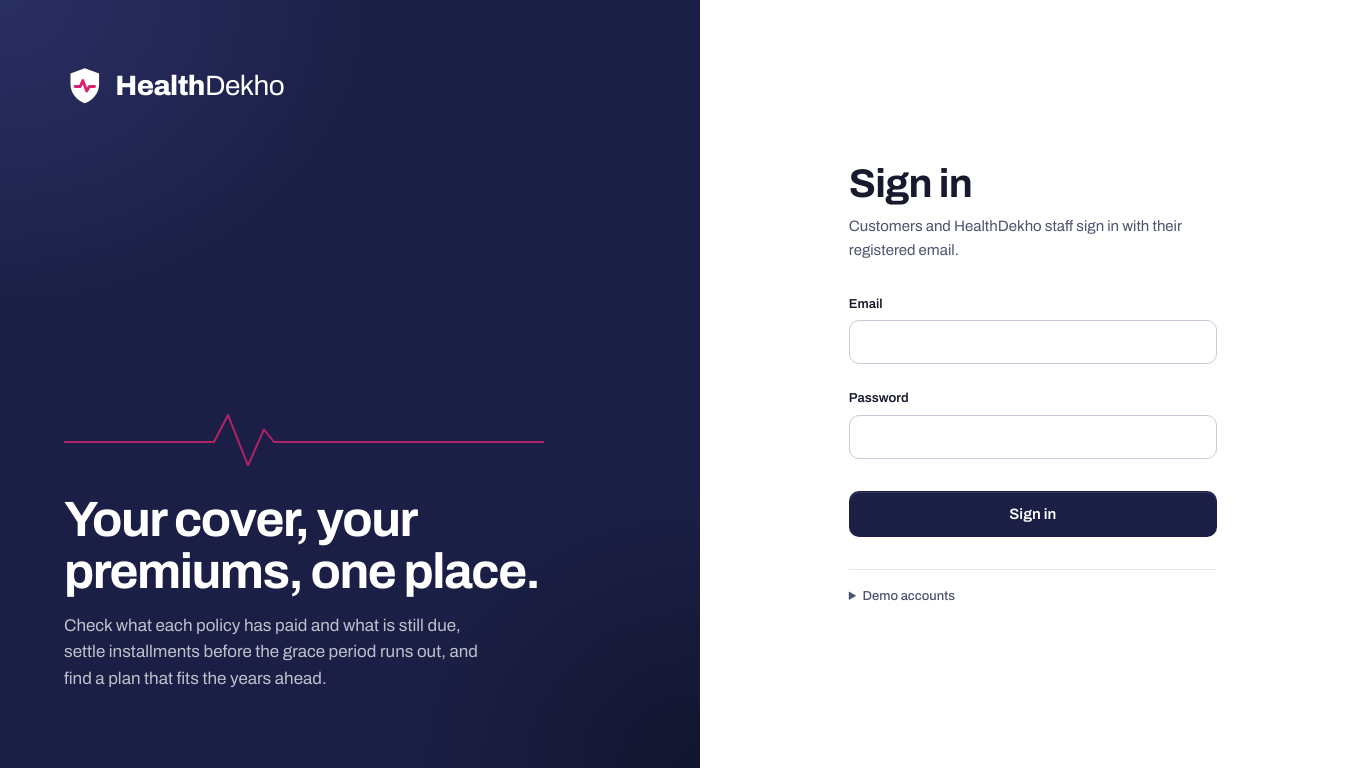
LoginPage › shows the server message when the credentials are rejected with 401
This screenshot has width=1366, height=768.
Type "aarav@example.com" into the field labelled "Email" at x=1033, y=342, box [849,320,1217,364]
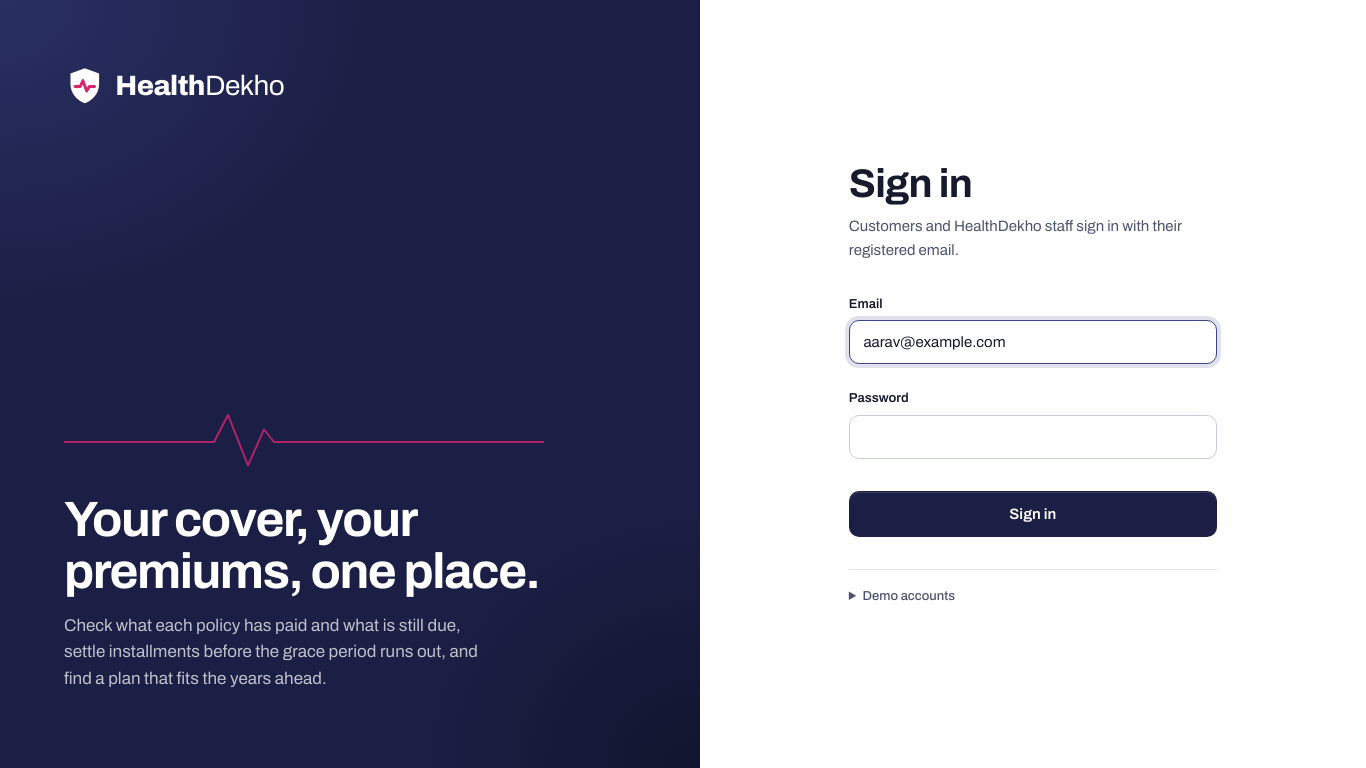
Type "wrong-password" into the password field labelled "Password" at x=1033, y=437, box [849,415,1217,459]
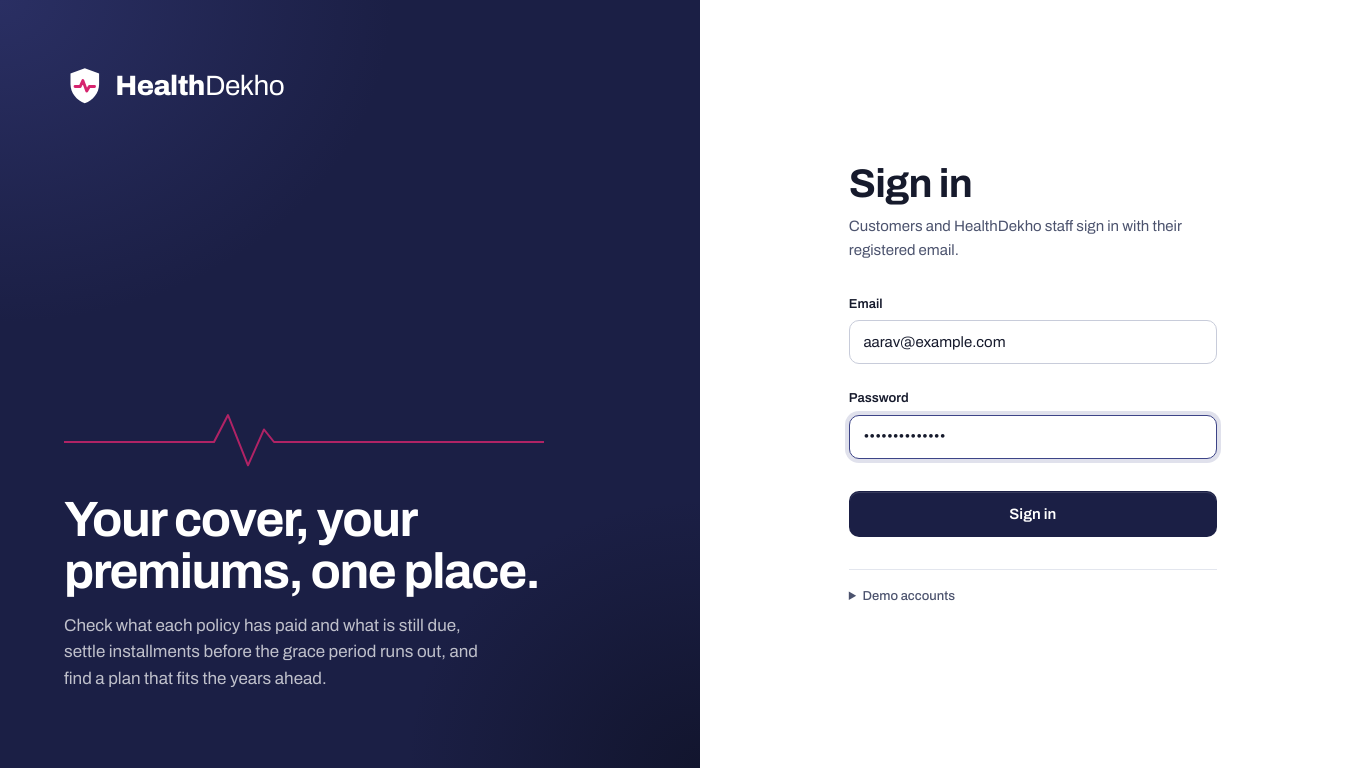
Click the button "Sign in" at x=1033, y=514, box [849,491,1217,537]
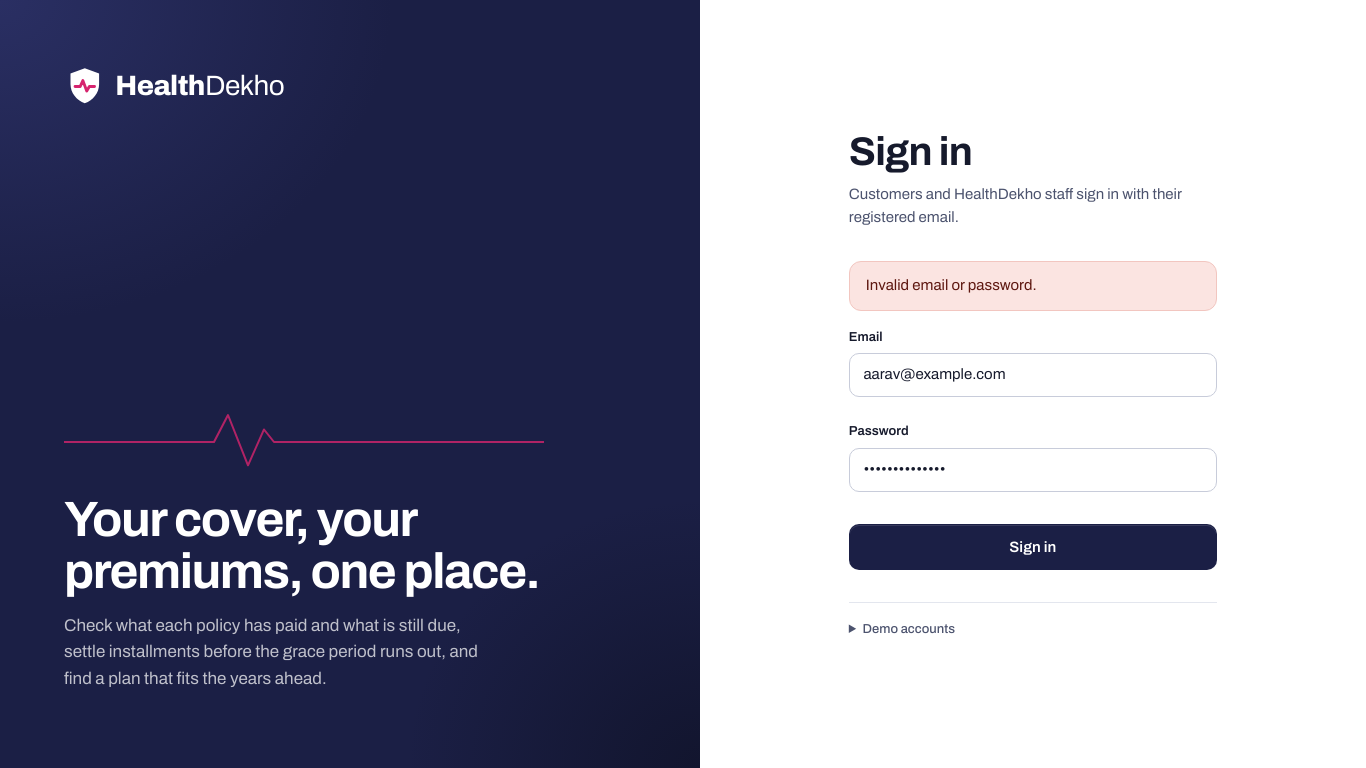
Expected: the button "Sign in" is enabled, [849,524,1217,570]
Expected: the message reads "Invalid email or password.", [866,277,1037,293]
